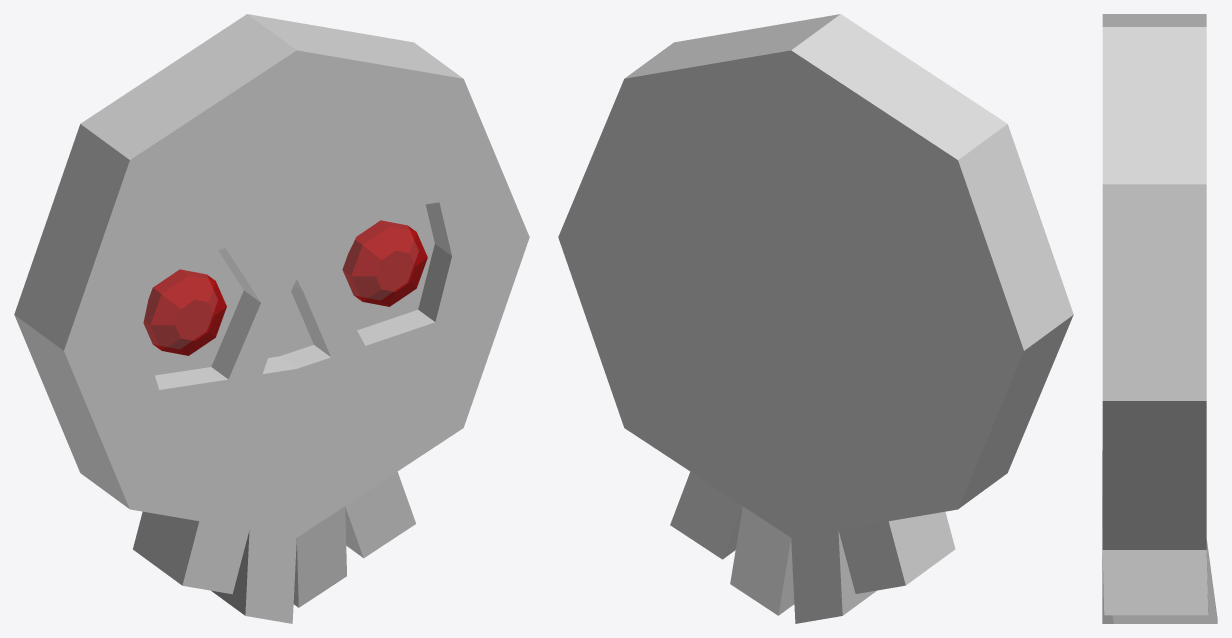
Rendered from KeyHead.fbx.
The picture shows the model from 3 angles, left to right: view 1: azimuth 30°, elevation 25°; view 2: azimuth 150°, elevation 25°; view 3: azimuth 270°, elevation 25°; orthographic projection. The views are drawn at different scales.
Parts seen in each view (by area): view 1: KeyHead, KeyEye2, KeyEye1; view 2: KeyHead; view 3: KeyHead.
Boxes of the visible parts, x1=… form: KeyHead: x1=14, y1=14, x2=529, y2=623; KeyEye2: x1=342, y1=220, x2=427, y2=306; KeyEye1: x1=143, y1=269, x2=226, y2=355; KeyHead: x1=558, y1=14, x2=1073, y2=623; KeyHead: x1=1102, y1=14, x2=1217, y2=623.
Bounding box in the file's own units: 279 × 328 × 57.28.
